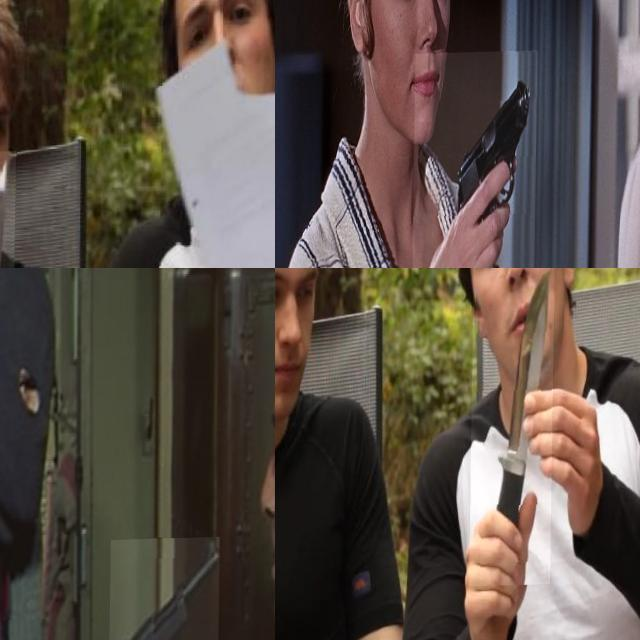-: (470, 268, 555, 588)
gun-knife-thesis - v11 Yolov5 augmented: (413, 52, 538, 268), (108, 539, 220, 640)
